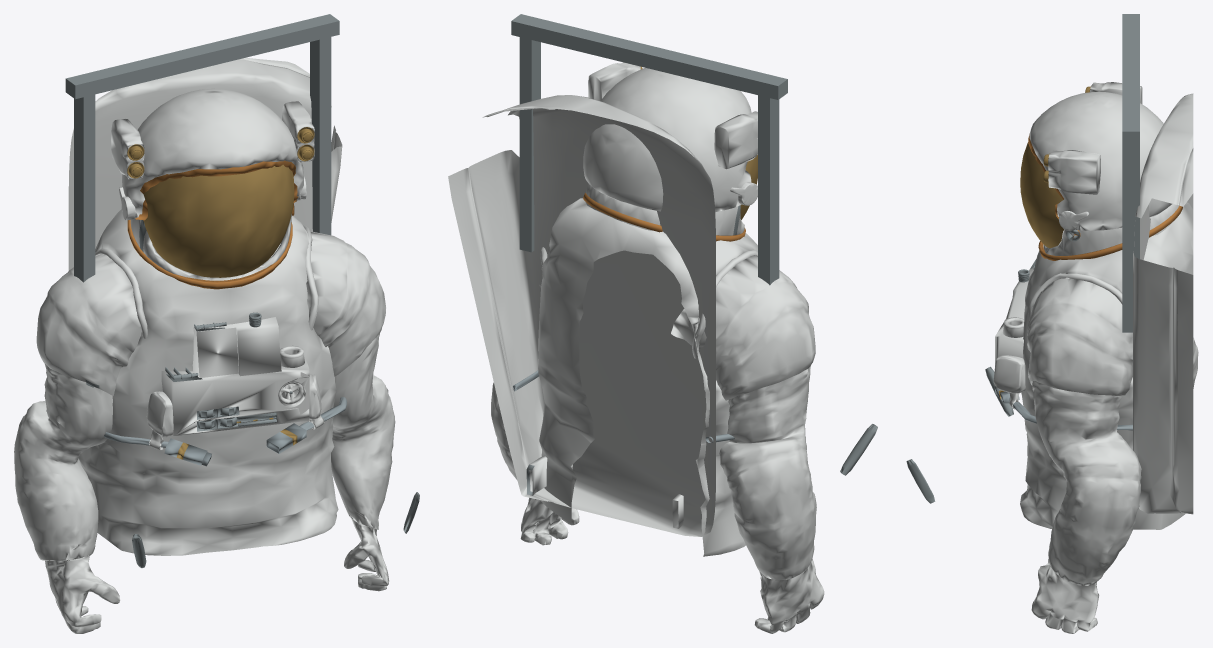
File: cruz-del-sur-eva-hanging.glb
3 views of the same model, side by side, from view 1: azimuth 30°, elevation 25°; view 2: azimuth 150°, elevation 25°; view 3: azimuth 270°, elevation 25° (orthographic). The views are drawn at different scales.
Parts seen in each view (by area): view 1: EVA jacket and closed helmet; view 2: EVA jacket and closed helmet; view 3: EVA jacket and closed helmet.
Boxes of the visible parts, left/top/right/bottom form: EVA jacket and closed helmet: left=14, top=14, right=419, bottom=633; EVA jacket and closed helmet: left=448, top=14, right=877, bottom=633; EVA jacket and closed helmet: left=906, top=14, right=1198, bottom=633.
Size of the model in its own units: 0.7144 by 1.1 by 0.5871.
